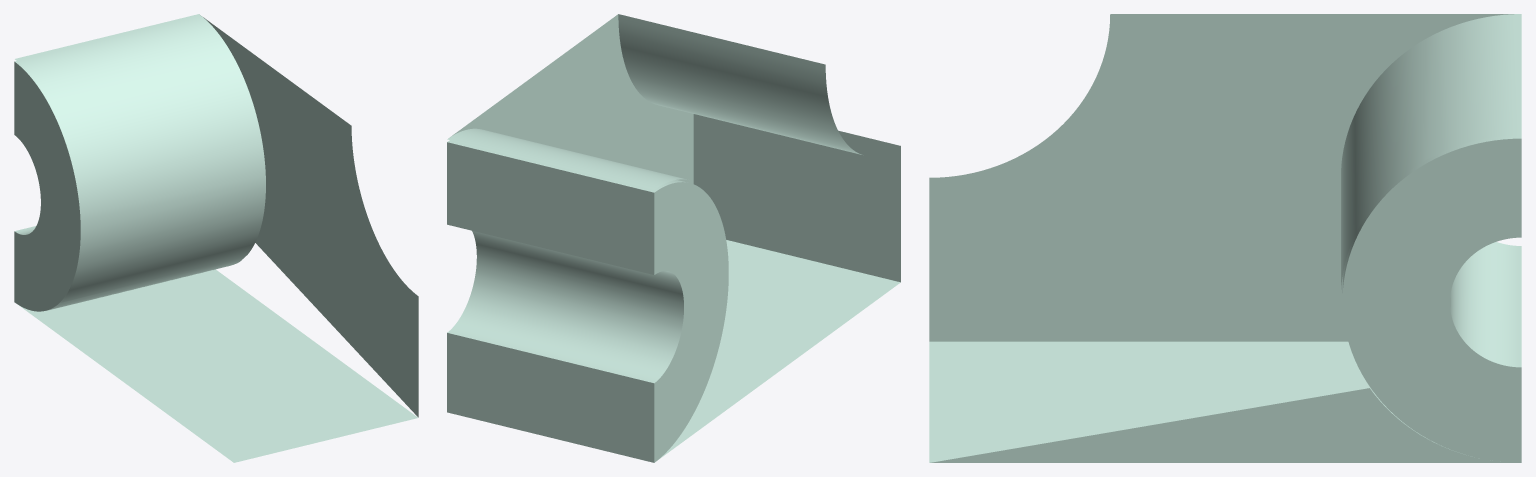
3 renders of one model, left to right at view 1: azimuth 30°, elevation 25°; view 2: azimuth 150°, elevation 25°; view 3: azimuth 270°, elevation 25°, orthographic. The views are drawn at different scales.
Parts seen in each view (by area): view 1: Renderer Node; view 2: Renderer Node; view 3: Renderer Node.
Boxes of the visible parts, x1,y1,x2,y2 form: Renderer Node: (14, 14, 418, 462); Renderer Node: (447, 14, 900, 462); Renderer Node: (929, 14, 1521, 462).
Size of the model in its own units: 0.5078 by 0.6391 by 1.05.
